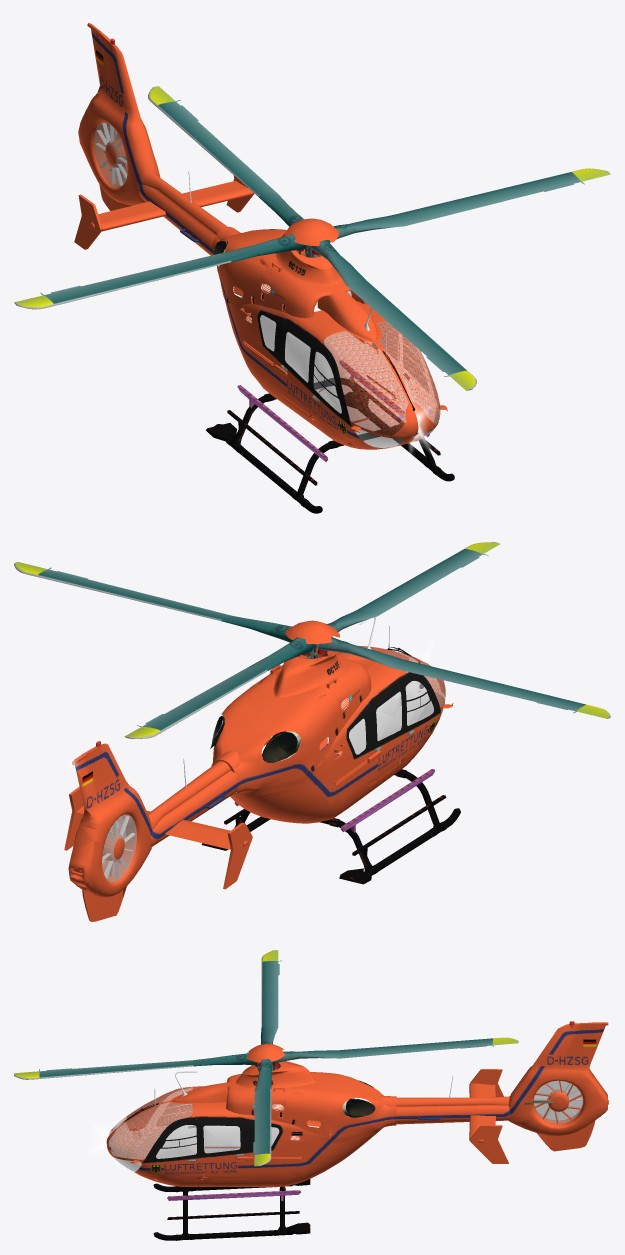
The model's file is luftrettung.gltf.
The picture shows the model from 3 angles, top to bottom: view 1: azimuth 30°, elevation 25°; view 2: azimuth 150°, elevation 25°; view 3: azimuth 270°, elevation 25°; orthographic projection. The views are drawn at different scales.
Parts seen in each view (by area): view 1: Exterior, Spin_12, Spin_22, Spin_7, Spin_17, Spin_0, Spin_20, Spin_15, Spin_21, Spin_16, Spin_5, Spin_11 (+2 smaller); view 2: Exterior, Spin_22, Spin_7, Spin_12, Spin_17, Spin_0, Spin_10, Spin_15, Spin_11, Spin_16, Spin_21, Spin_5 (+4 smaller); view 3: Exterior, Spin_17, Spin_7, Spin_22, Spin_12, Spin_0, Spin_5, Spin_6.
Boxes of the visible parts, x1,y1,x2,y2 form: Exterior: [74, 19, 454, 513]; Spin_12: [14, 280, 117, 309]; Spin_22: [508, 168, 610, 197]; Spin_7: [148, 86, 211, 138]; Spin_17: [413, 338, 476, 390]; Spin_0: [286, 218, 338, 246]; Spin_20: [394, 200, 462, 226]; Spin_15: [347, 279, 398, 315]; Spin_21: [453, 187, 518, 211]; Spin_16: [381, 309, 431, 343]; Spin_5: [225, 163, 276, 196]; Spin_11: [106, 267, 172, 290]; Exterior: [64, 617, 460, 921]; Spin_22: [14, 562, 113, 592]; Spin_7: [124, 705, 199, 738]; Spin_12: [511, 688, 610, 718]; Spin_17: [426, 542, 500, 576]; Spin_0: [285, 620, 339, 643]; Spin_10: [392, 659, 462, 682]; Spin_15: [358, 589, 411, 616]; Spin_11: [453, 674, 520, 695]; Spin_16: [393, 570, 444, 595]; Spin_21: [102, 586, 171, 606]; Spin_5: [213, 667, 267, 690]; Exterior: [84, 1021, 609, 1240]; Spin_17: [14, 1067, 94, 1079]; Spin_7: [438, 1037, 518, 1049]; Spin_22: [250, 1130, 271, 1166]; Spin_12: [261, 950, 282, 985]; Spin_0: [247, 1044, 284, 1062]; Spin_5: [339, 1046, 389, 1058]; Spin_6: [390, 1042, 438, 1054].
Size of the model in its own units: 10.1 by 4.41 by 11.9.
16 materials, 9 textured.
